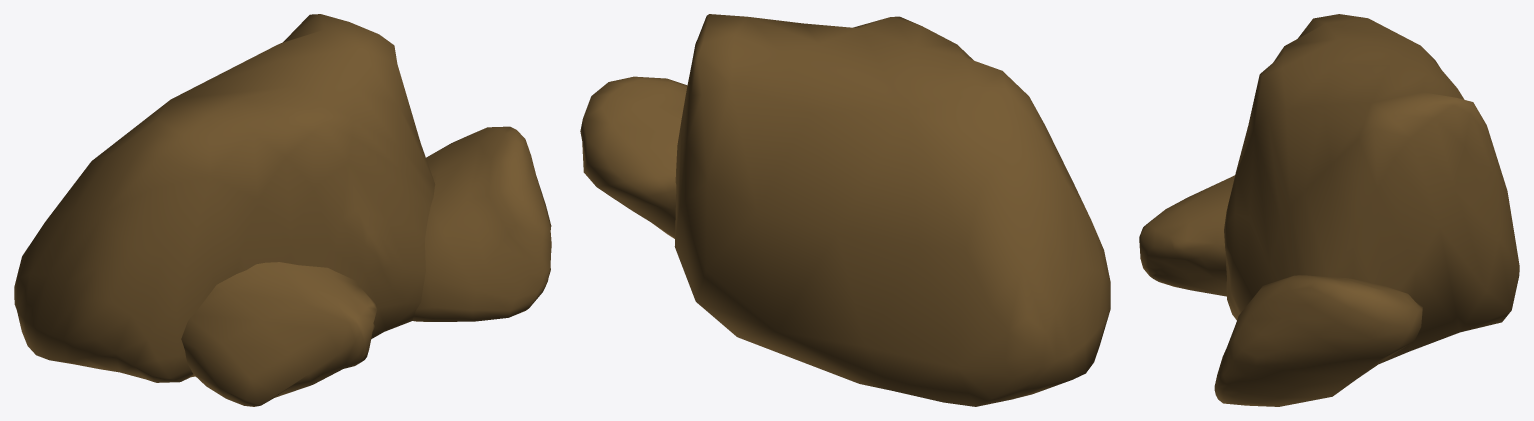
The model's file is BigMossyRock.fbx.
3 views of the same model, side by side, from view 1: azimuth 30°, elevation 25°; view 2: azimuth 150°, elevation 25°; view 3: azimuth 270°, elevation 25° (orthographic). The views are drawn at different scales.
Visible parts, largest first — view 1: PedraGrandeMusgo; view 2: PedraGrandeMusgo; view 3: PedraGrandeMusgo.
Boxes of the visible parts, left/top/right/bottom form: PedraGrandeMusgo: left=14, top=14, right=551, bottom=406; PedraGrandeMusgo: left=580, top=14, right=1110, bottom=406; PedraGrandeMusgo: left=1139, top=14, right=1519, bottom=406.
Bounding box in the file's own units: 225 × 118 × 149.
